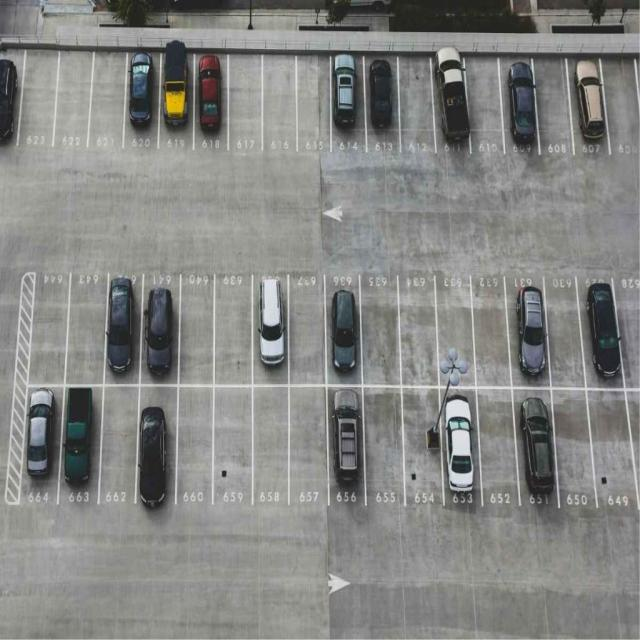libre: (182, 390, 324, 515), (366, 266, 512, 384), (21, 42, 127, 152), (230, 47, 329, 159), (563, 388, 640, 522), (366, 389, 444, 516), (34, 267, 104, 384), (183, 264, 250, 384), (482, 388, 519, 520), (286, 271, 323, 387), (549, 266, 581, 381), (103, 390, 133, 510), (612, 58, 640, 172), (474, 57, 502, 162), (405, 49, 431, 162), (540, 55, 566, 164), (613, 277, 640, 370)
ocupado: (510, 271, 558, 516), (127, 39, 227, 140), (324, 268, 366, 508), (26, 382, 100, 507), (330, 46, 401, 162), (106, 274, 179, 385), (580, 277, 625, 392), (570, 38, 609, 168), (429, 44, 471, 159), (502, 46, 541, 165), (140, 392, 175, 522), (443, 390, 479, 513), (251, 270, 289, 386), (0, 40, 19, 158)
